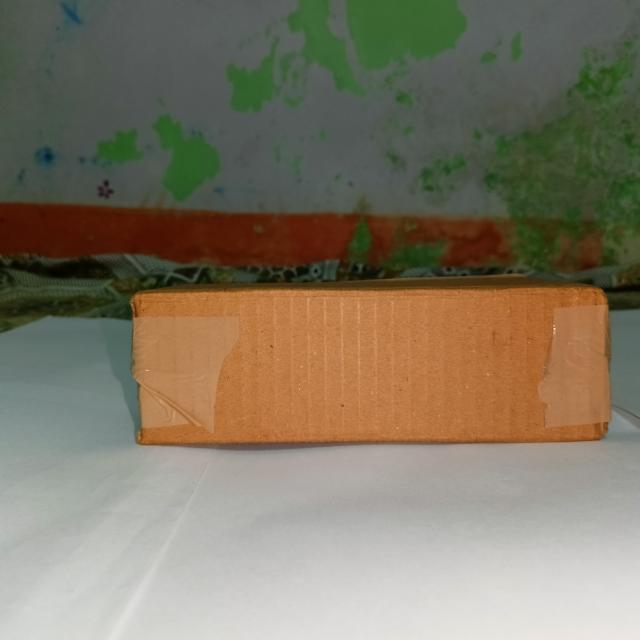box: (135, 291, 604, 445)
